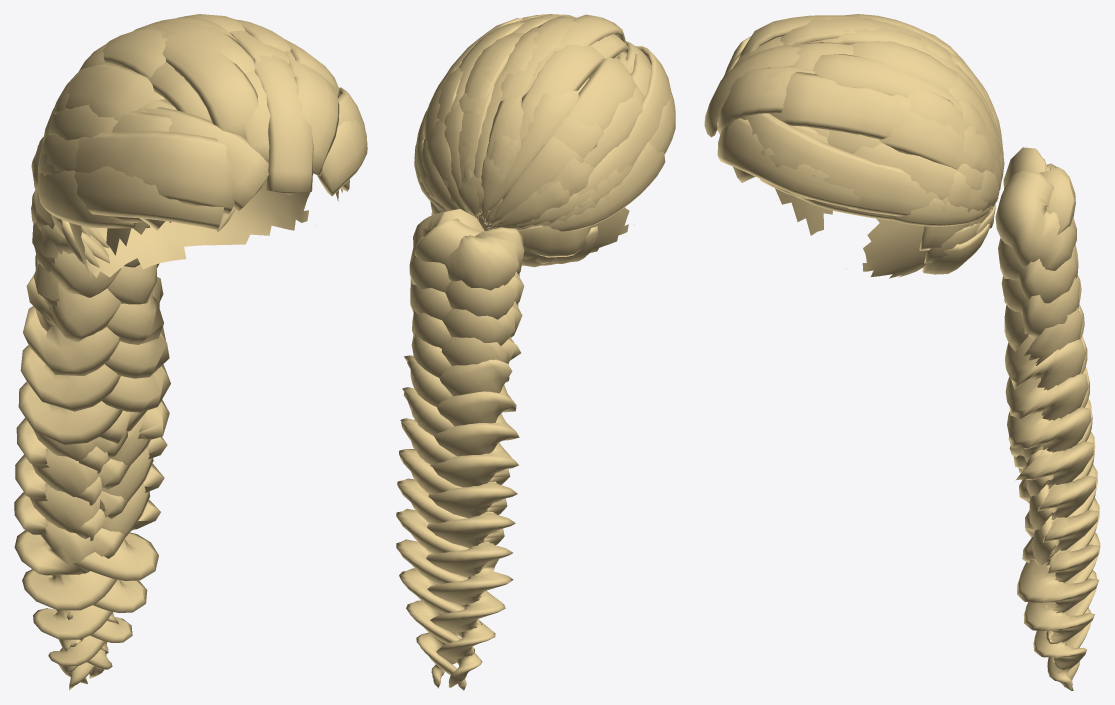
File: hair_anime_female_braided_ponytail.glb
3 renders of one model, left to right at view 1: azimuth 30°, elevation 25°; view 2: azimuth 150°, elevation 25°; view 3: azimuth 270°, elevation 25°, orthographic. The views are drawn at different scales.
Parts seen in each view (by area): view 1: AF_Hair_BraidedPonytail.001; view 2: AF_Hair_BraidedPonytail.001; view 3: AF_Hair_BraidedPonytail.001.
Boxes of the visible parts, x1,y1,x2,y2 form: AF_Hair_BraidedPonytail.001: (14,14,367,690); AF_Hair_BraidedPonytail.001: (396,14,675,690); AF_Hair_BraidedPonytail.001: (704,14,1100,690).
Bounding box in the file's own units: 0.2031 × 0.5351 × 0.2903.
